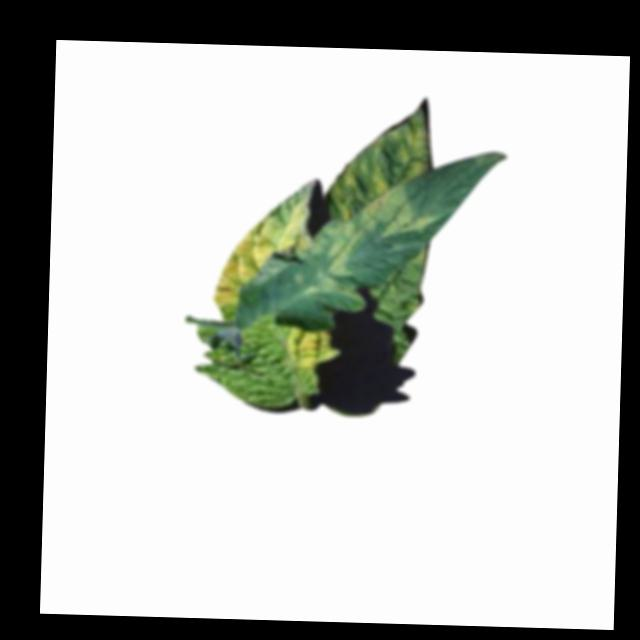Leaf_Mold: (306, 181, 437, 308), (325, 97, 432, 223), (211, 203, 309, 311), (282, 325, 344, 369)
